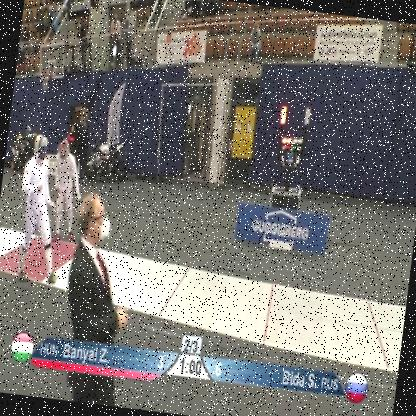fencer: (7, 123, 74, 315), (40, 137, 89, 246)
referee: (51, 192, 145, 406)
